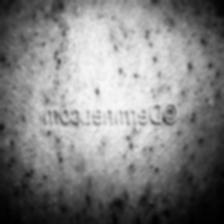Toxin: (0, 130, 224, 224), (1, 14, 220, 104)
